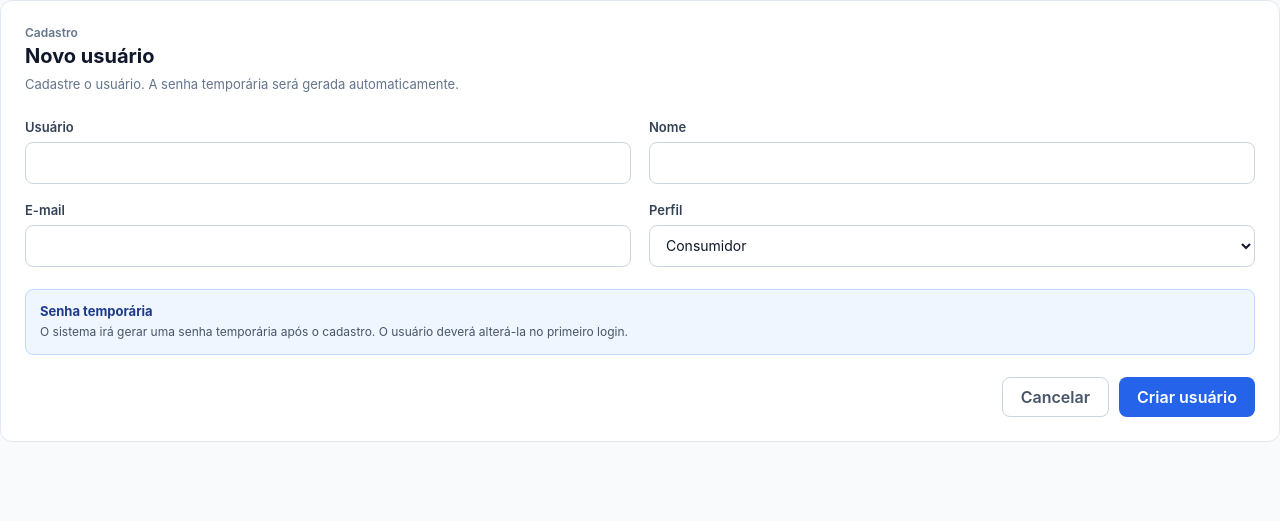
Test: UserForm › valida campos obrigatórios antes de criar
What coordinates should you click on to do the following:
click the button "Criar usuário"
I would click on:
 (1187, 396)
Its box is [1119,376,1255,416].
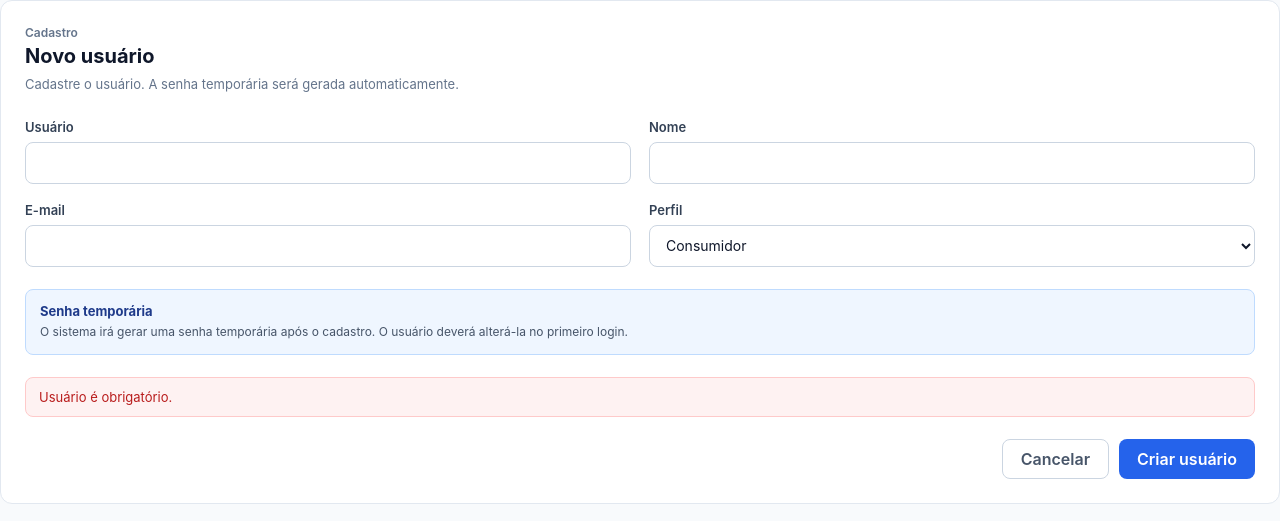
Result: the message shows "Usuário é obrigatório" at [39,388,172,404]
